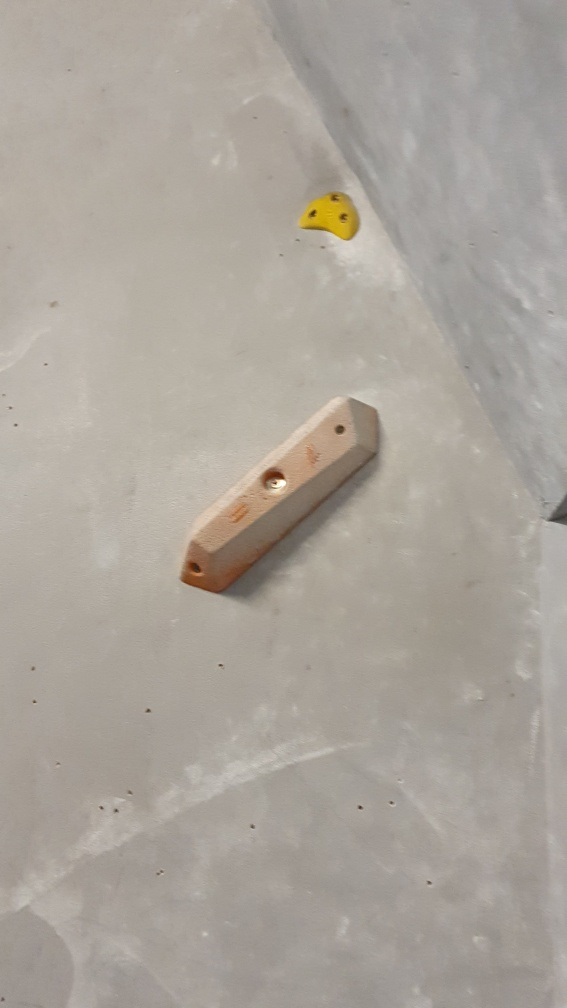Pinch: (179, 391, 387, 601)
